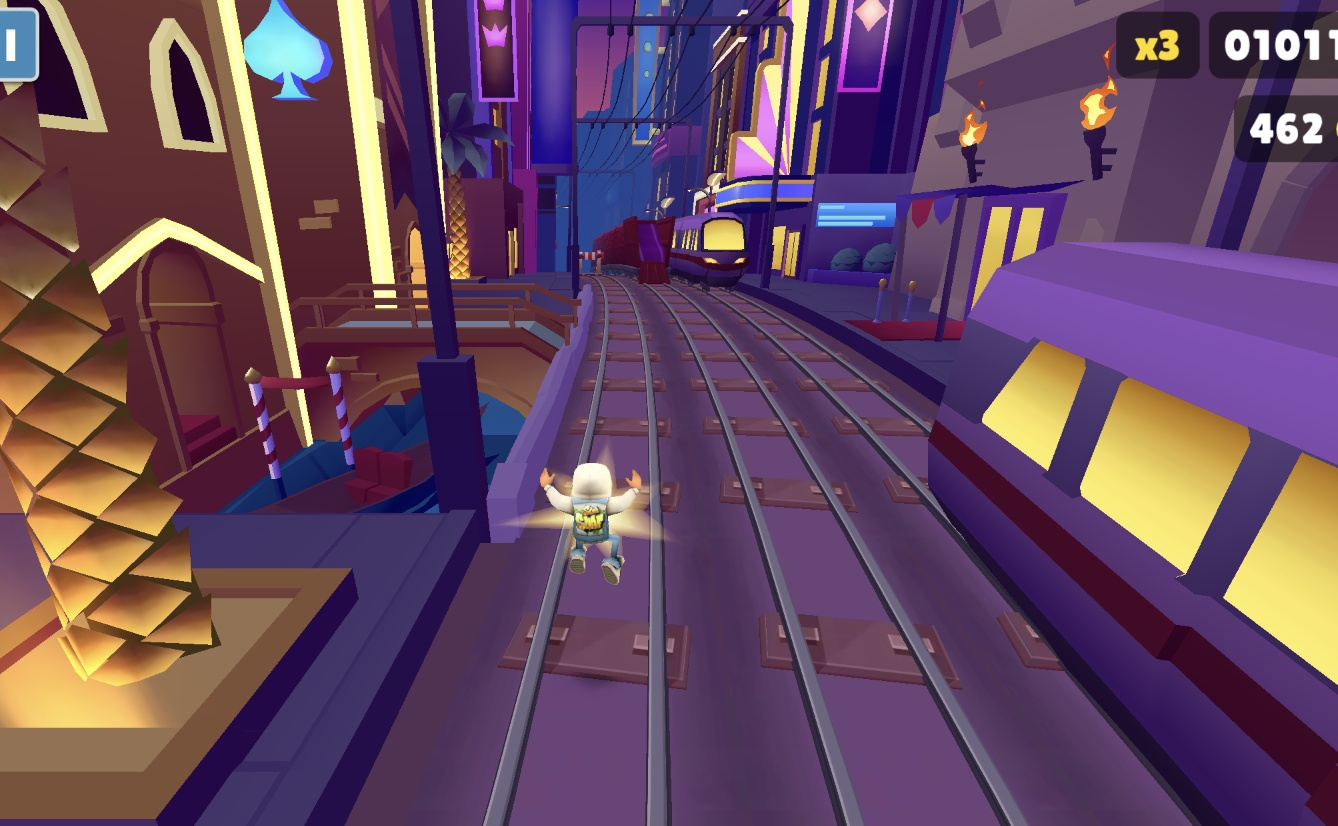train: (691, 322, 1338, 756), (569, 217, 689, 277)
